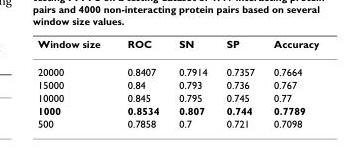table: (37, 37, 318, 129)
table column: (37, 37, 113, 129), (113, 37, 168, 129), (263, 37, 318, 129), (168, 37, 216, 129), (216, 37, 263, 129)
table column header: (37, 37, 318, 57)
table row: (37, 57, 318, 78), (37, 37, 318, 57), (37, 90, 318, 103), (37, 103, 318, 116), (37, 116, 318, 129), (37, 78, 318, 90)
